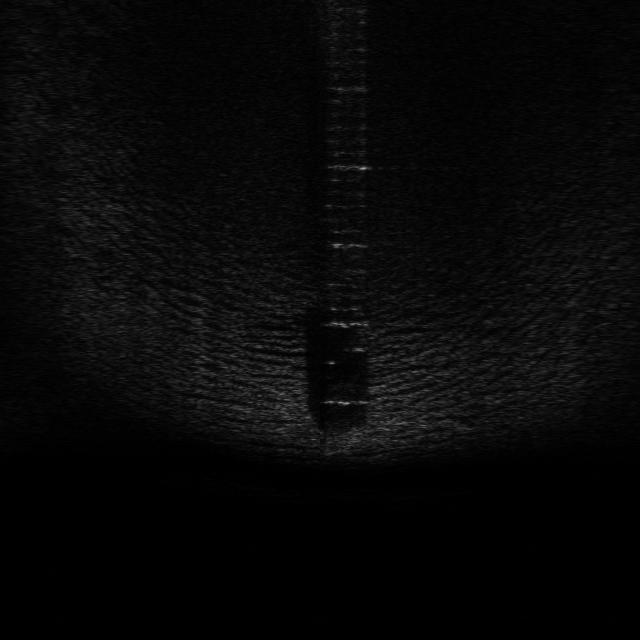cube: (308, 420, 368, 456)
